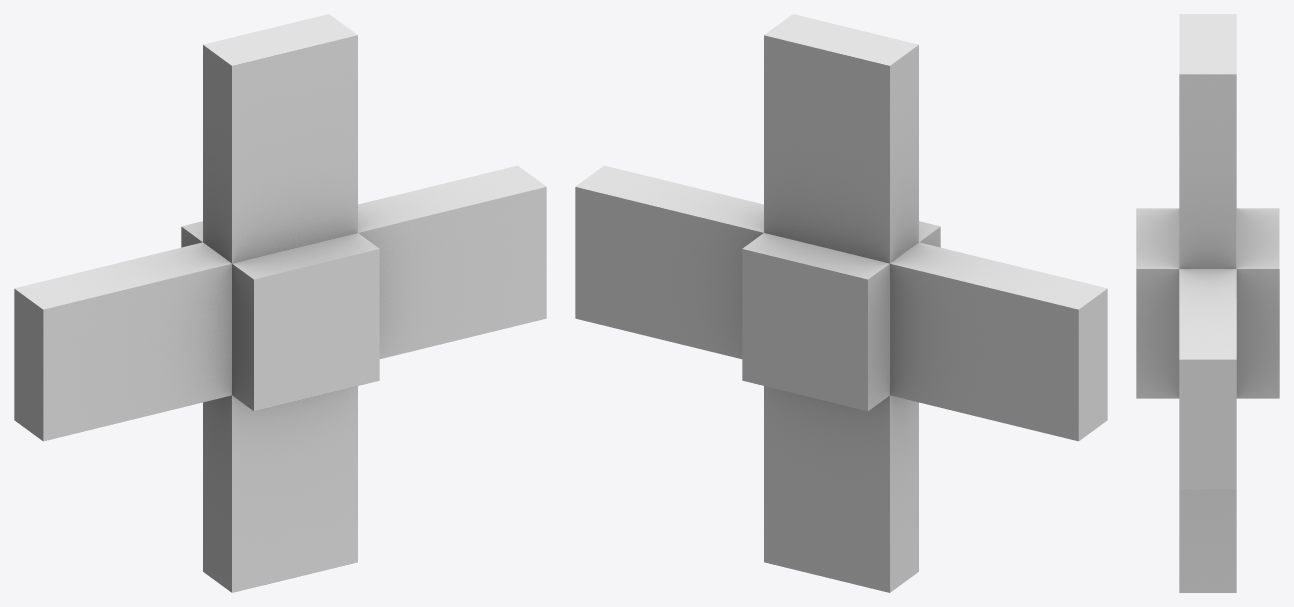
The model's file is cursor.dae.
The picture shows the model from 3 angles, left to right: view 1: azimuth 30°, elevation 25°; view 2: azimuth 150°, elevation 25°; view 3: azimuth 270°, elevation 25°; orthographic projection.
Parts seen in each view (by area): view 1: Cross; view 2: Cross; view 3: Cross.
Part boxes in pixels (x1,y1,x2,y2): Cross: (14,14,546,592); Cross: (575,14,1107,592); Cross: (1136,14,1279,592).
Size of the model in its own units: 2 by 0.5 by 2.
1 material, 1 textured.
